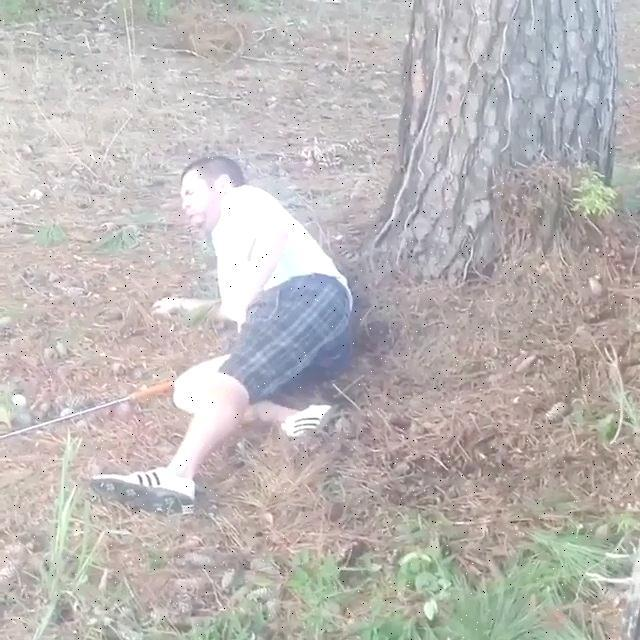golf club-handle: (0, 380, 177, 440)
